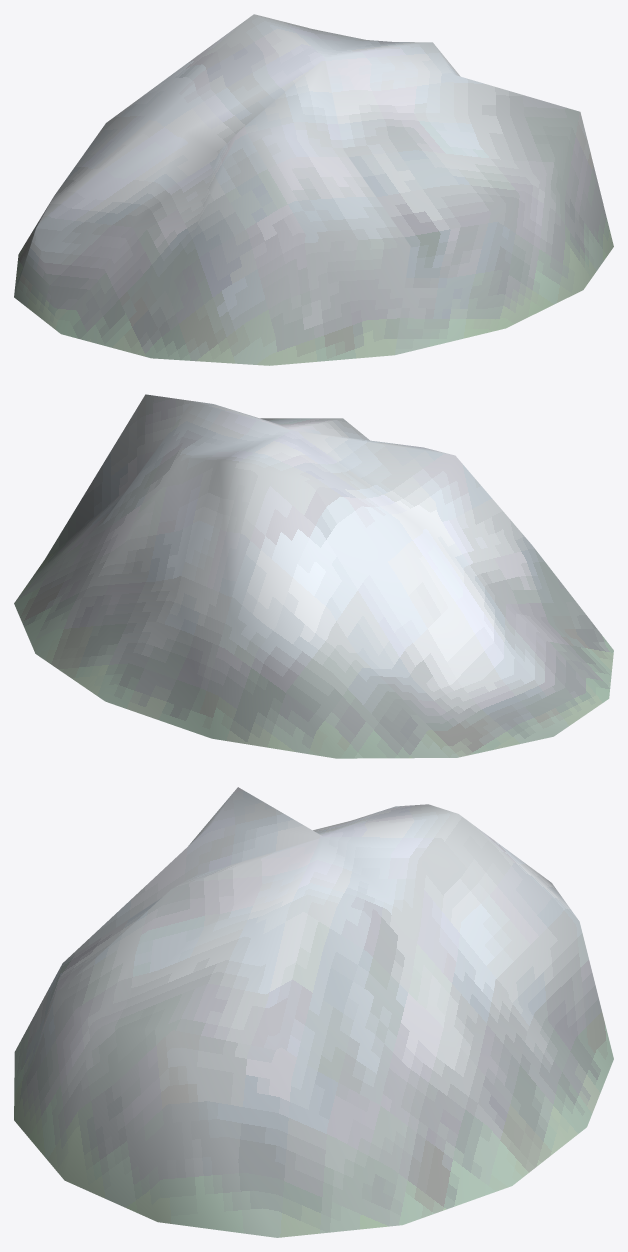
Rendered from TROLLHOLE02_STONEA25.fbx.
The picture shows the model from 3 angles, top to bottom: view 1: azimuth 30°, elevation 25°; view 2: azimuth 150°, elevation 25°; view 3: azimuth 270°, elevation 25°; orthographic projection. The views are drawn at different scales.
Visible parts, largest first — view 1: TROLLHOLE02_STONEA25; view 2: TROLLHOLE02_STONEA25; view 3: TROLLHOLE02_STONEA25.
Part boxes in pixels (x1,y1,x2,y2): TROLLHOLE02_STONEA25: (14, 14, 613, 365); TROLLHOLE02_STONEA25: (14, 394, 613, 758); TROLLHOLE02_STONEA25: (14, 787, 613, 1237).
Size of the model in its own units: 17467 by 6443 by 13521.
1 material, 1 textured.
